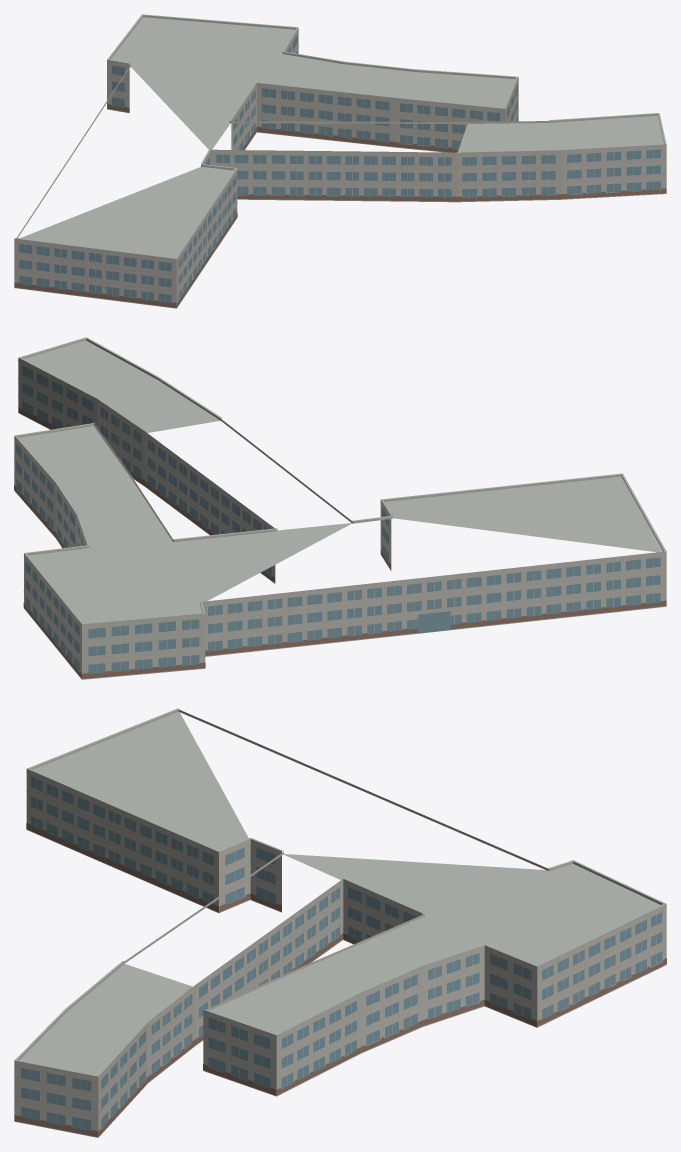
File: public-65a3ae3f-7677-45a0-8735-69be12969edf.glb
The picture shows the model from 3 angles, top to bottom: view 1: azimuth 30°, elevation 25°; view 2: azimuth 150°, elevation 25°; view 3: azimuth 270°, elevation 25°; orthographic projection. The views are drawn at different scales.
Visible parts, largest first — view 1: public-65a3ae3f-7677-45a0-8735-69be12969edf; view 2: public-65a3ae3f-7677-45a0-8735-69be12969edf; view 3: public-65a3ae3f-7677-45a0-8735-69be12969edf.
Part boxes in pixels (x1,y1,x2,y2): public-65a3ae3f-7677-45a0-8735-69be12969edf: (14,14,666,308); public-65a3ae3f-7677-45a0-8735-69be12969edf: (14,337,666,679); public-65a3ae3f-7677-45a0-8735-69be12969edf: (14,708,666,1137).
Bounding box in the file's own units: 118 × 9.15 × 88.42.
